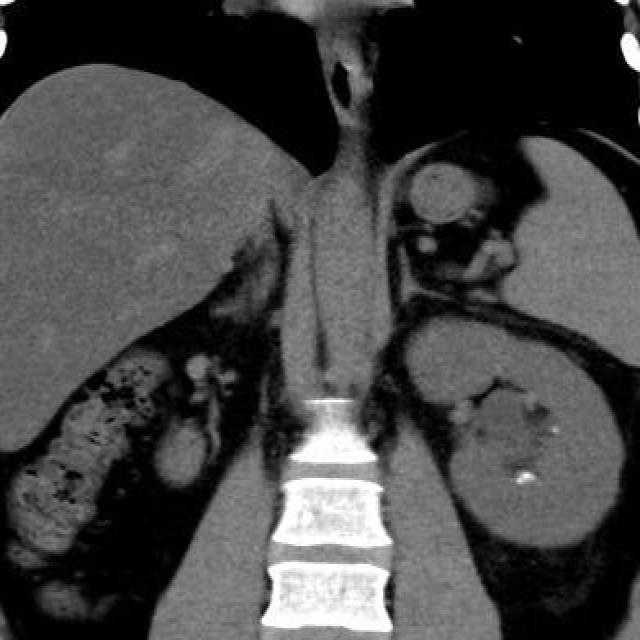Tas_Var: (549, 424, 562, 434), (520, 471, 530, 481), (516, 475, 522, 487), (530, 474, 534, 482)
